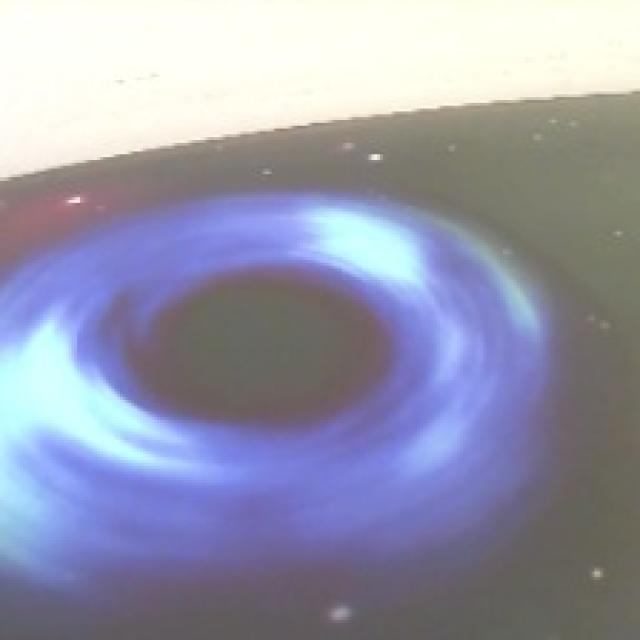Black Hole: (0, 191, 562, 602)
